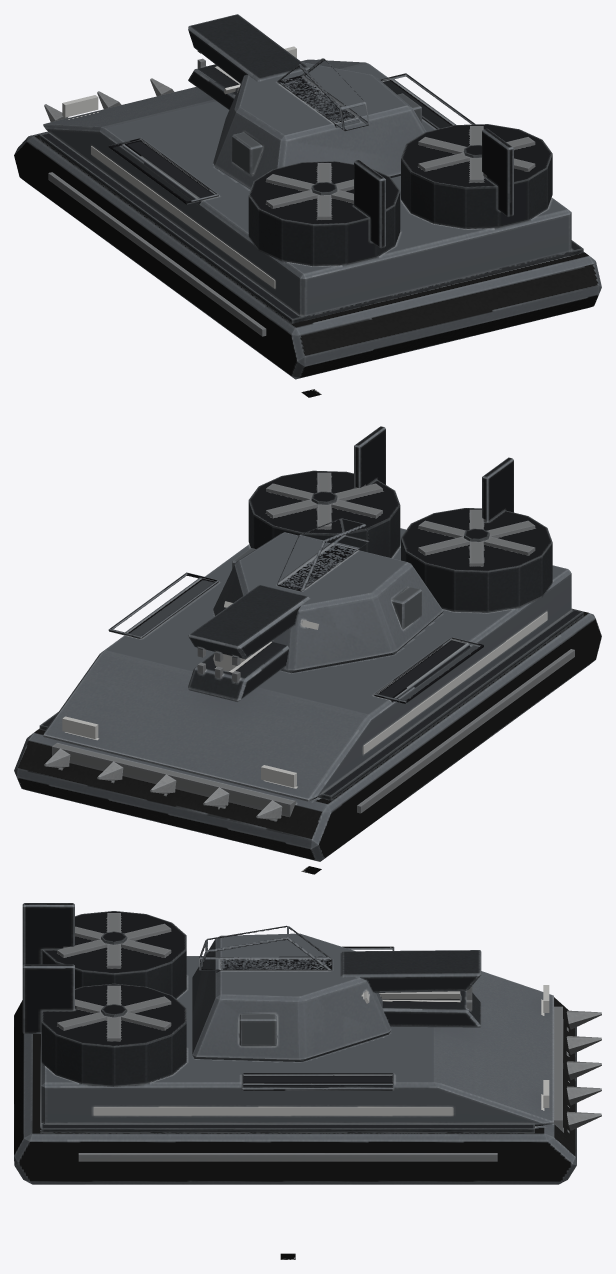
Rendered from chs_snapjaw.fbx.
3 views of the same model, one above another, from view 1: azimuth 30°, elevation 25°; view 2: azimuth 150°, elevation 25°; view 3: azimuth 270°, elevation 25° (orthographic). The views are drawn at different scales.
Visible parts, largest first — view 1: base_bar, turret_bar, barrel_bar, fan1_bar, fan2_bar, base_glow_running_bar, base_glow_head_bar; view 2: base_bar, turret_bar, barrel_bar, fan2_bar, fan1_bar, base_glow_running_bar, base_glow_head_bar; view 3: base_bar, turret_bar, barrel_bar, base_glow_running_bar, fan2_bar, fan1_bar, barrel_glow_weapon_bar.
Part boxes in pixels (bbox=[...]): base_bar: bbox=[14, 59, 601, 379]; turret_bar: bbox=[213, 58, 426, 189]; barrel_bar: bbox=[188, 14, 309, 109]; fan1_bar: bbox=[266, 163, 353, 219]; fan2_bar: bbox=[418, 126, 535, 182]; base_glow_running_bar: bbox=[91, 146, 275, 288]; base_glow_head_bar: bbox=[62, 46, 296, 117]; base_bar: bbox=[14, 426, 601, 861]; turret_bar: bbox=[213, 518, 443, 673]; barrel_bar: bbox=[188, 584, 309, 701]; fan2_bar: bbox=[266, 472, 382, 529]; fan1_bar: bbox=[418, 509, 535, 566]; base_glow_running_bar: bbox=[363, 612, 547, 754]; base_glow_head_bar: bbox=[62, 716, 296, 787]; base_bar: bbox=[14, 903, 601, 1184]; turret_bar: bbox=[192, 925, 391, 1061]; barrel_bar: bbox=[340, 950, 481, 1027]; base_glow_running_bar: bbox=[93, 1107, 452, 1115]; fan2_bar: bbox=[57, 985, 171, 1041]; fan1_bar: bbox=[57, 913, 171, 968]; barrel_glow_weapon_bar: bbox=[379, 991, 460, 1000].
Bounding box in the file's own units: 472 × 480 × 786.
2 materials, 2 textured.
